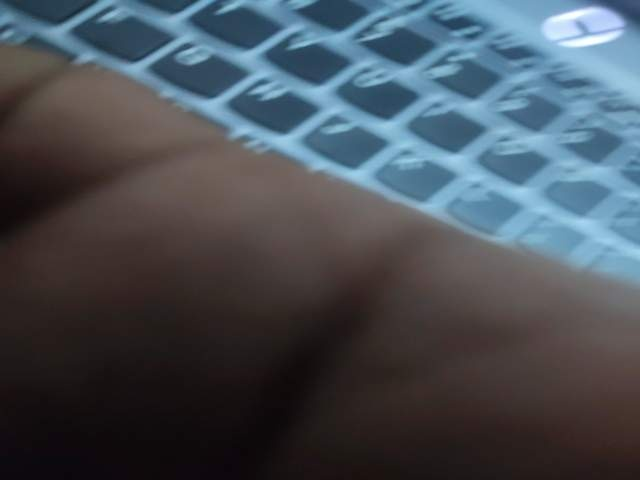pothole: (319, 317, 419, 397)
